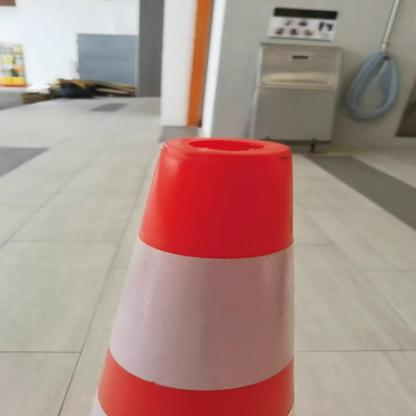cone: (68, 134, 334, 415)
